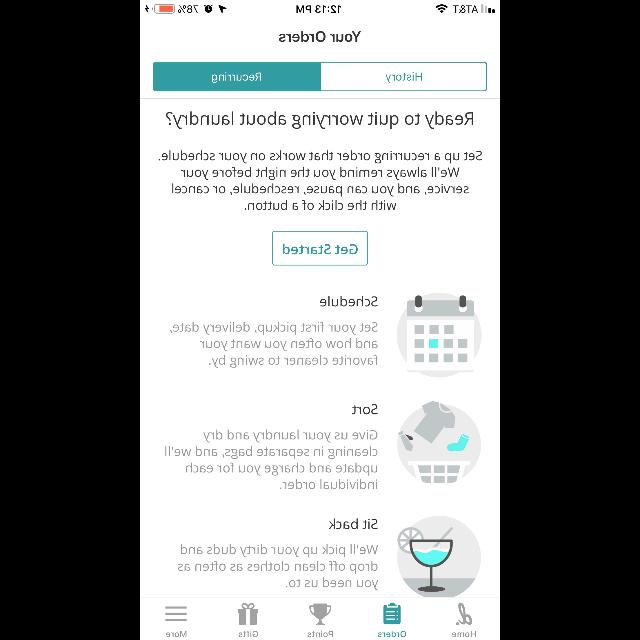icon: (238, 603, 258, 625), (384, 602, 401, 624), (165, 606, 187, 622)
image: (396, 292, 482, 378), (397, 401, 481, 483), (397, 516, 481, 596), (309, 603, 331, 625), (456, 602, 472, 626)
text: (158, 150, 482, 210), (165, 430, 377, 490), (170, 322, 378, 368), (178, 544, 378, 590), (165, 112, 472, 128), (279, 32, 361, 42), (328, 518, 378, 530), (320, 296, 378, 306), (352, 404, 378, 414), (308, 630, 332, 638), (378, 631, 406, 637), (238, 630, 258, 638), (451, 631, 475, 637), (166, 631, 186, 637)
textbutton: (154, 62, 320, 92), (321, 62, 487, 92), (272, 230, 368, 266)
uppertaskbar: (140, 0, 500, 14)
